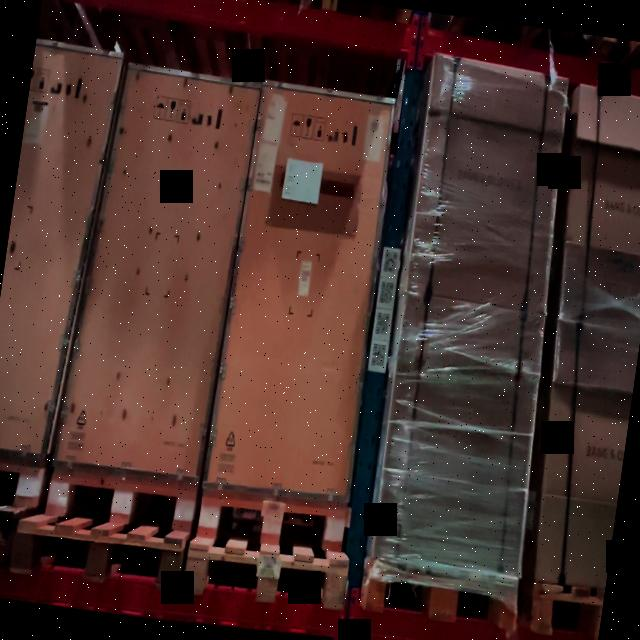box: (210, 85, 401, 492), (77, 73, 250, 475), (373, 310, 544, 573), (404, 61, 568, 318)
